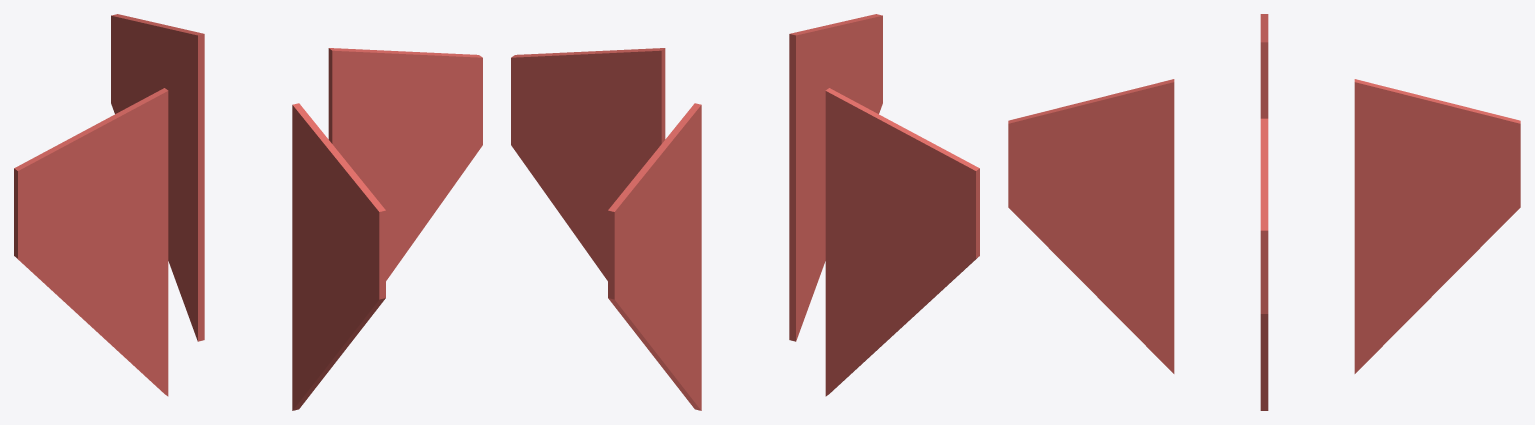
Rendered from fins_large.glb.
The picture shows the model from 3 angles, left to right: view 1: azimuth 30°, elevation 25°; view 2: azimuth 150°, elevation 25°; view 3: azimuth 270°, elevation 25°; orthographic projection. The views are drawn at different scales.
Visible parts, largest first — view 1: fins_large_2, fins_large_0, fins_large_3, fins_large_1; view 2: fins_large_2, fins_large_0, fins_large_1, fins_large_3; view 3: fins_large_1, fins_large_3, fins_large_0, fins_large_2.
Boxes of the visible parts, <box> form: fins_large_2: <box>14,88,168,396</box>; fins_large_0: <box>328,48,482,280</box>; fins_large_3: <box>292,103,385,410</box>; fins_large_1: <box>111,14,204,341</box>; fins_large_2: <box>825,88,979,396</box>; fins_large_0: <box>511,48,665,280</box>; fins_large_1: <box>608,103,701,410</box>; fins_large_3: <box>789,14,882,341</box>; fins_large_1: <box>1354,79,1520,373</box>; fins_large_3: <box>1008,79,1174,373</box>; fins_large_0: <box>1260,118,1268,410</box>; fins_large_2: <box>1260,14,1268,118</box>.
Size of the model in its own units: 5.56 by 3.5 by 5.56.
